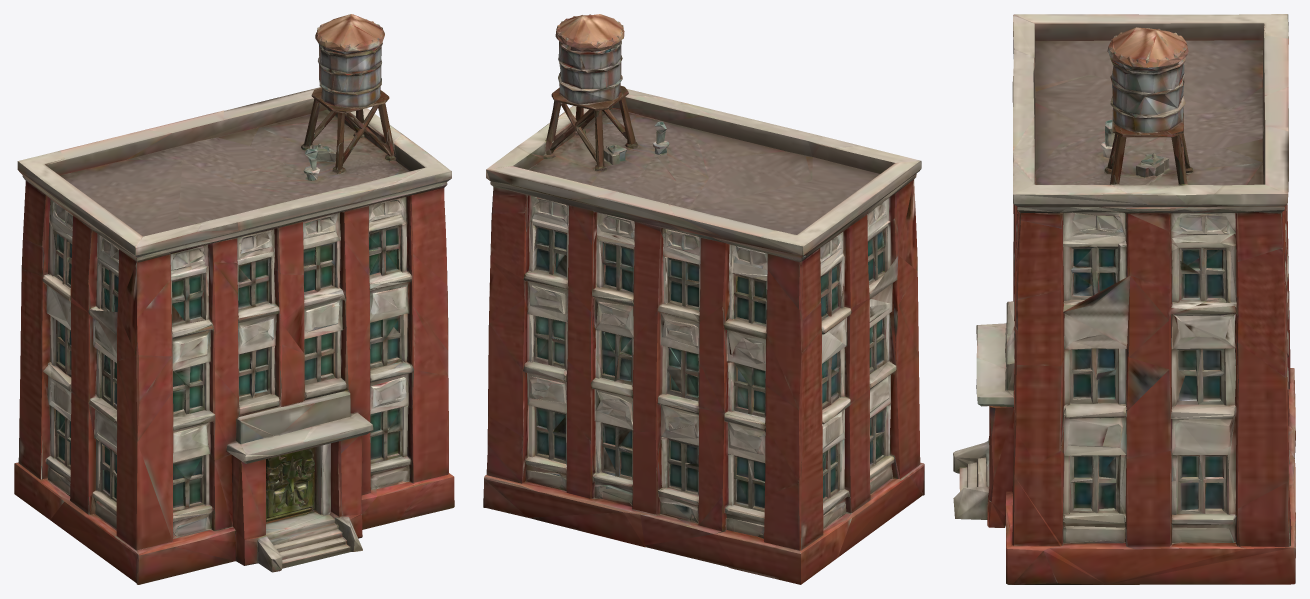
File: town_office_1460.glb
3 views of the same model, side by side, from view 1: azimuth 30°, elevation 25°; view 2: azimuth 150°, elevation 25°; view 3: azimuth 270°, elevation 25° (orthographic). The views are drawn at different scales.
Parts seen in each view (by area): view 1: normalize; view 2: normalize; view 3: normalize.
Part boxes in pixels (box(x1,y1,x2,y2)): normalize: box(14, 14, 454, 584); normalize: box(483, 14, 924, 584); normalize: box(953, 14, 1295, 584).
Bounding box in the file's own units: 1 × 1.37 × 0.8007.
1 material, 1 textured.
